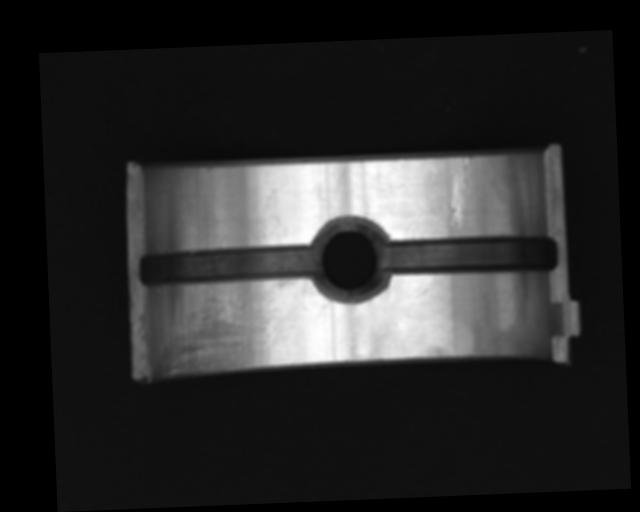gap: (139, 242, 319, 287), (383, 233, 559, 277)
hole: (308, 218, 392, 304)
nick: (446, 155, 473, 229)
scratch: (153, 279, 295, 382)
